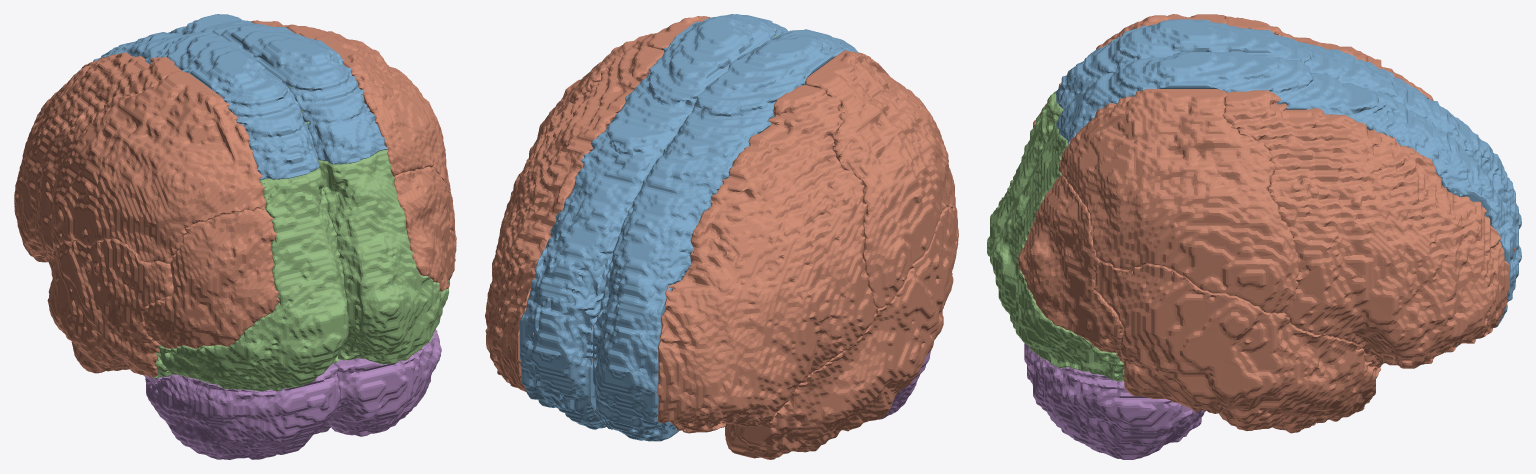
The model's file is arterial_territories.glb.
The picture shows the model from 3 angles, left to right: view 1: azimuth 30°, elevation 25°; view 2: azimuth 150°, elevation 25°; view 3: azimuth 270°, elevation 25°; orthographic projection. The views are drawn at different scales.
Parts seen in each view (by area): view 1: Parietal pars of middle cerebral artery left, Occipital pars of posterior cerebral artery left, Occipital pars of posterior cerebral artery right, Occipital pars of middle cerebral artery left, Temporal pars of middle cerebral artery left, Inferior cerebellar left, Anterior cerebral artery left, Anterior cerebral artery right, Frontal pars of middle cerebral artery left, Parietal pars of middle cerebral artery right, Inferior cerebellar right, Occipital pars of middle cerebral artery right (+1 smaller); view 2: Frontal pars of middle cerebral artery left, Anterior cerebral artery left, Anterior cerebral artery right, Parietal pars of middle cerebral artery left, Temporal pars of middle cerebral artery left, Frontal pars of middle cerebral artery right, Parietal pars of middle cerebral artery right, Inferior cerebellar left; view 3: Frontal pars of middle cerebral artery right, Parietal pars of middle cerebral artery right, Temporal pars of middle cerebral artery right, Anterior cerebral artery right, Anterior cerebral artery left, Occipital pars of middle cerebral artery right, Inferior cerebellar right, Occipital pars of posterior cerebral artery right, Occipital pars of posterior cerebral artery left, Frontal pars of middle cerebral artery left, Parietal pars of middle cerebral artery left.
Boxes of the visible parts, x1,y1,x2,y2 form: Parietal pars of middle cerebral artery left: (50,71,266,263); Occipital pars of posterior cerebral artery left: (155,122,348,391); Occipital pars of posterior cerebral artery right: (288,86,449,364); Occipital pars of middle cerebral artery left: (142,208,279,348); Temporal pars of middle cerebral artery left: (45,238,173,377); Inferior cerebellar left: (144,364,340,459); Anterior cerebral artery left: (93,30,319,179); Anterior cerebral artery right: (168,14,387,164); Frontal pars of middle cerebral artery left: (14,52,181,262); Parietal pars of middle cerebral artery right: (314,35,450,192); Inferior cerebellar right: (313,329,441,436); Occipital pars of middle cerebral artery right: (394,166,456,291); Frontal pars of middle cerebral artery left: (657,85,876,433); Anterior cerebral artery left: (593,29,859,441); Anterior cerebral artery right: (519,14,788,429); Parietal pars of middle cerebral artery left: (805,50,953,308); Temporal pars of middle cerebral artery left: (725,198,957,459); Frontal pars of middle cerebral artery right: (485,45,664,392); Parietal pars of middle cerebral artery right: (529,16,710,157); Inferior cerebellar left: (878,349,931,419); Frontal pars of middle cerebral artery right: (1222,90,1515,368); Parietal pars of middle cerebral artery right: (1059,89,1298,313); Temporal pars of middle cerebral artery right: (1093,261,1380,433); Anterior cerebral artery right: (1056,51,1521,347); Anterior cerebral artery left: (1056,19,1521,237); Occipital pars of middle cerebral artery right: (1018,175,1123,352); Inferior cerebellar right: (1024,343,1205,459); Occipital pars of posterior cerebral artery right: (990,120,1124,381); Occipital pars of posterior cerebral artery left: (987,91,1063,256); Frontal pars of middle cerebral artery left: (1224,16,1433,100); Parietal pars of middle cerebral artery left: (1059,14,1226,85).
Size of the model in its own units: 7.27 by 7.49 by 9.25.
